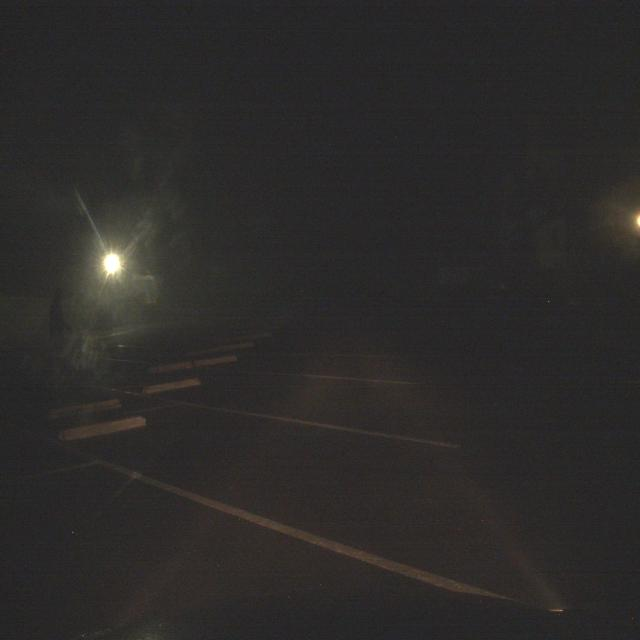humans: (49, 283, 76, 383)
